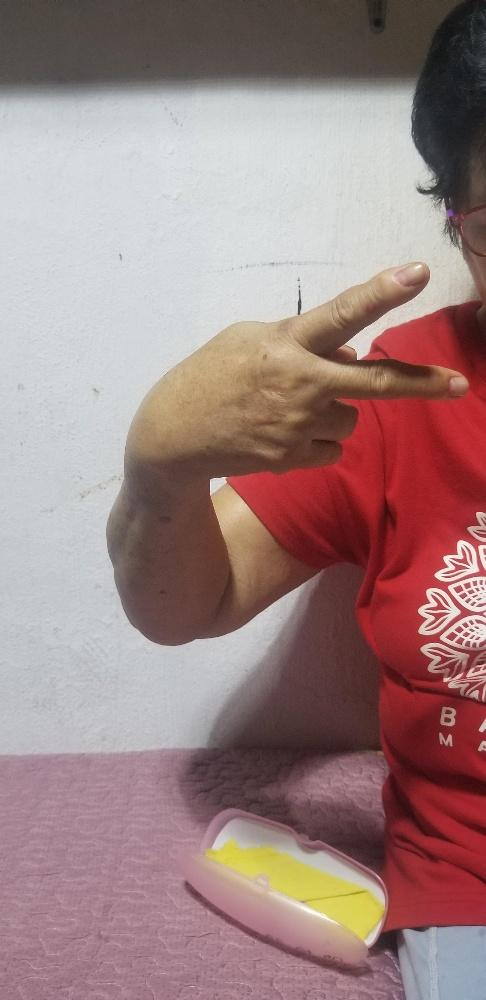k: (188, 260, 466, 478)
